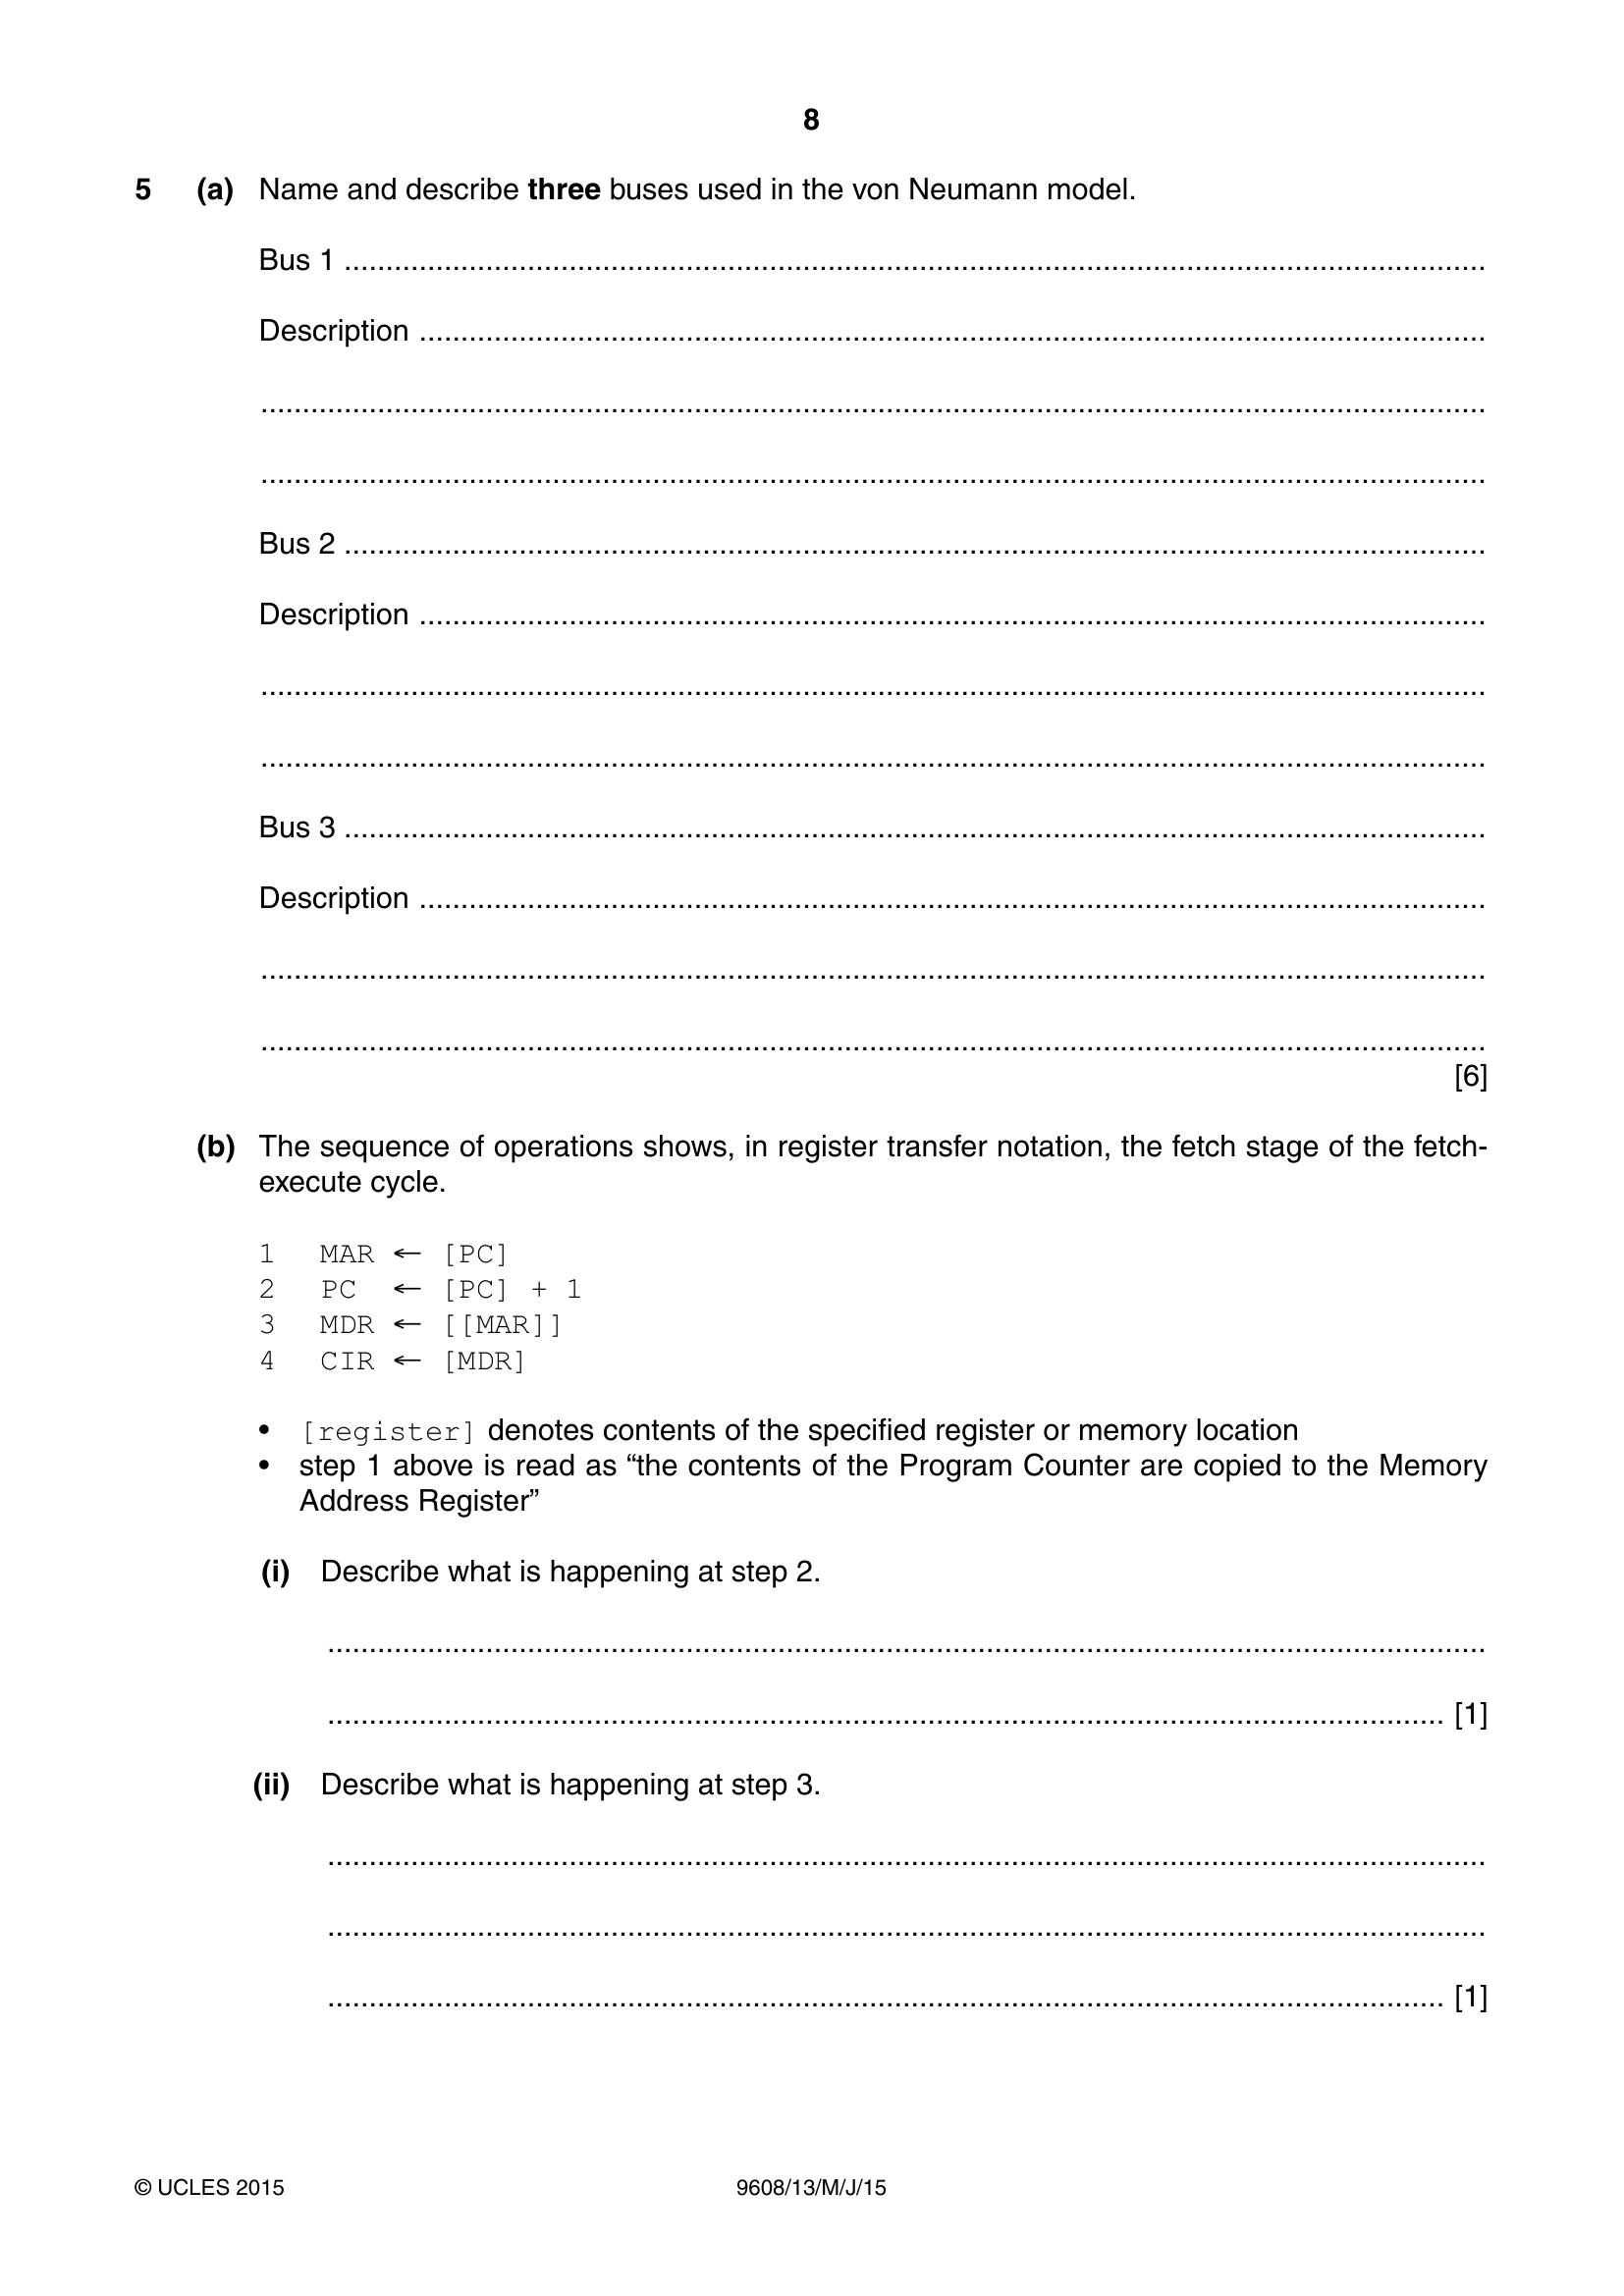question: (5, 163, 1617, 2041)
